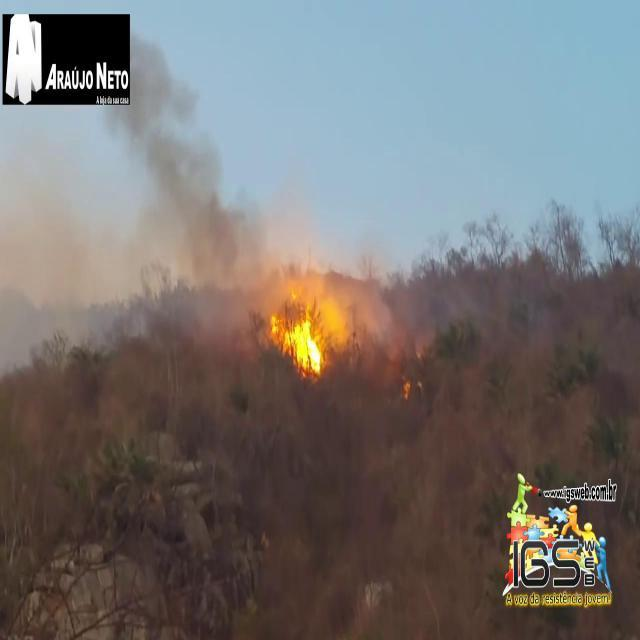Fire: (272, 294, 328, 374), (402, 378, 412, 401)
